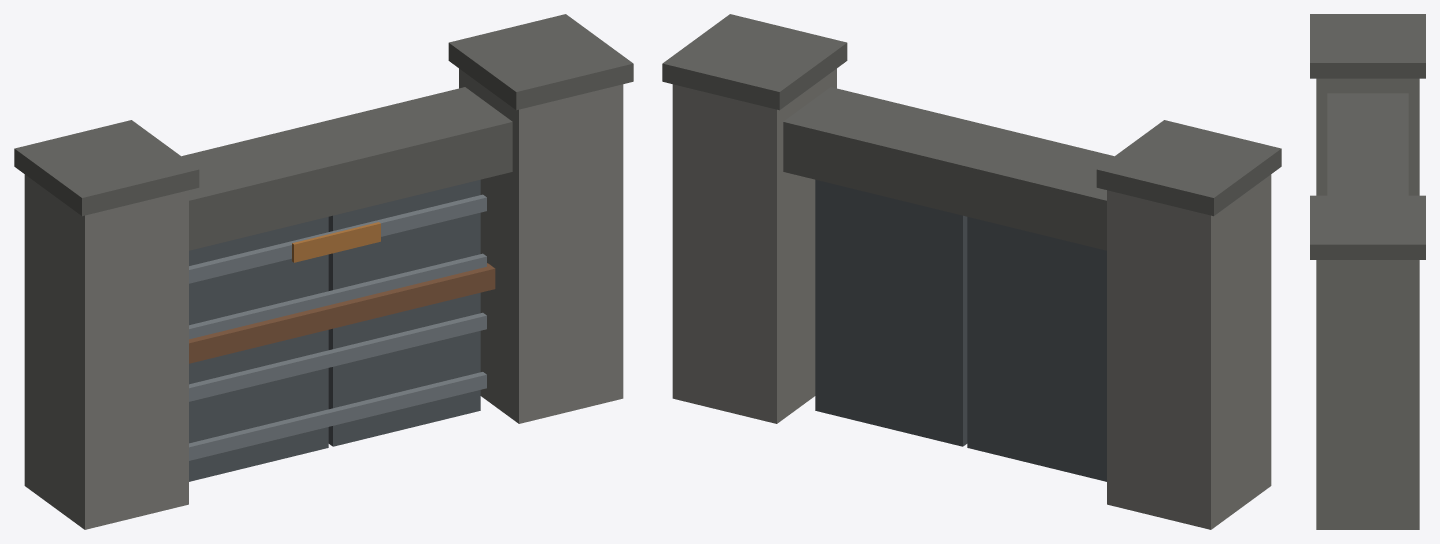
The model's file is gate.glb.
The picture shows the model from 3 angles, left to right: view 1: azimuth 30°, elevation 25°; view 2: azimuth 150°, elevation 25°; view 3: azimuth 270°, elevation 25°; orthographic projection. The views are drawn at different scales.
Visible parts, largest first — view 1: tower_l, tower_r, lintel, door_r, door_l, cap_l, cap_r, bar, band1, band0, band2, band3 (+1 smaller); view 2: tower_l, tower_r, door_r, door_l, lintel, cap_l, cap_r; view 3: tower_r, lintel, cap_l, cap_r, tower_l.
Boxes of the visible parts, x1,y1,x2,y2 form: tower_l: (24,174,188,529); tower_r: (459,68,623,423); lintel: (181,87,512,250); door_r: (328,179,480,446); door_l: (189,217,328,481); cap_l: (14,120,199,216); cap_r: (448,14,633,110); bar: (189,263,495,363); band1: (189,312,486,401); band0: (189,372,486,460); band2: (189,253,486,339); band3: (189,194,486,283); tower_l: (1107,174,1271,529); tower_r: (672,68,836,423); door_r: (815,179,967,446); door_l: (967,217,1106,481); lintel: (783,87,1114,250); cap_l: (1096,120,1281,216); cap_r: (662,14,847,110); tower_r: (1316,260,1419,529); lintel: (1327,93,1408,195); cap_l: (1310,14,1425,78); cap_r: (1310,195,1425,259); tower_l: (1316,78,1419,195).
Size of the model in its own units: 12.7 by 7.4 by 2.7.
